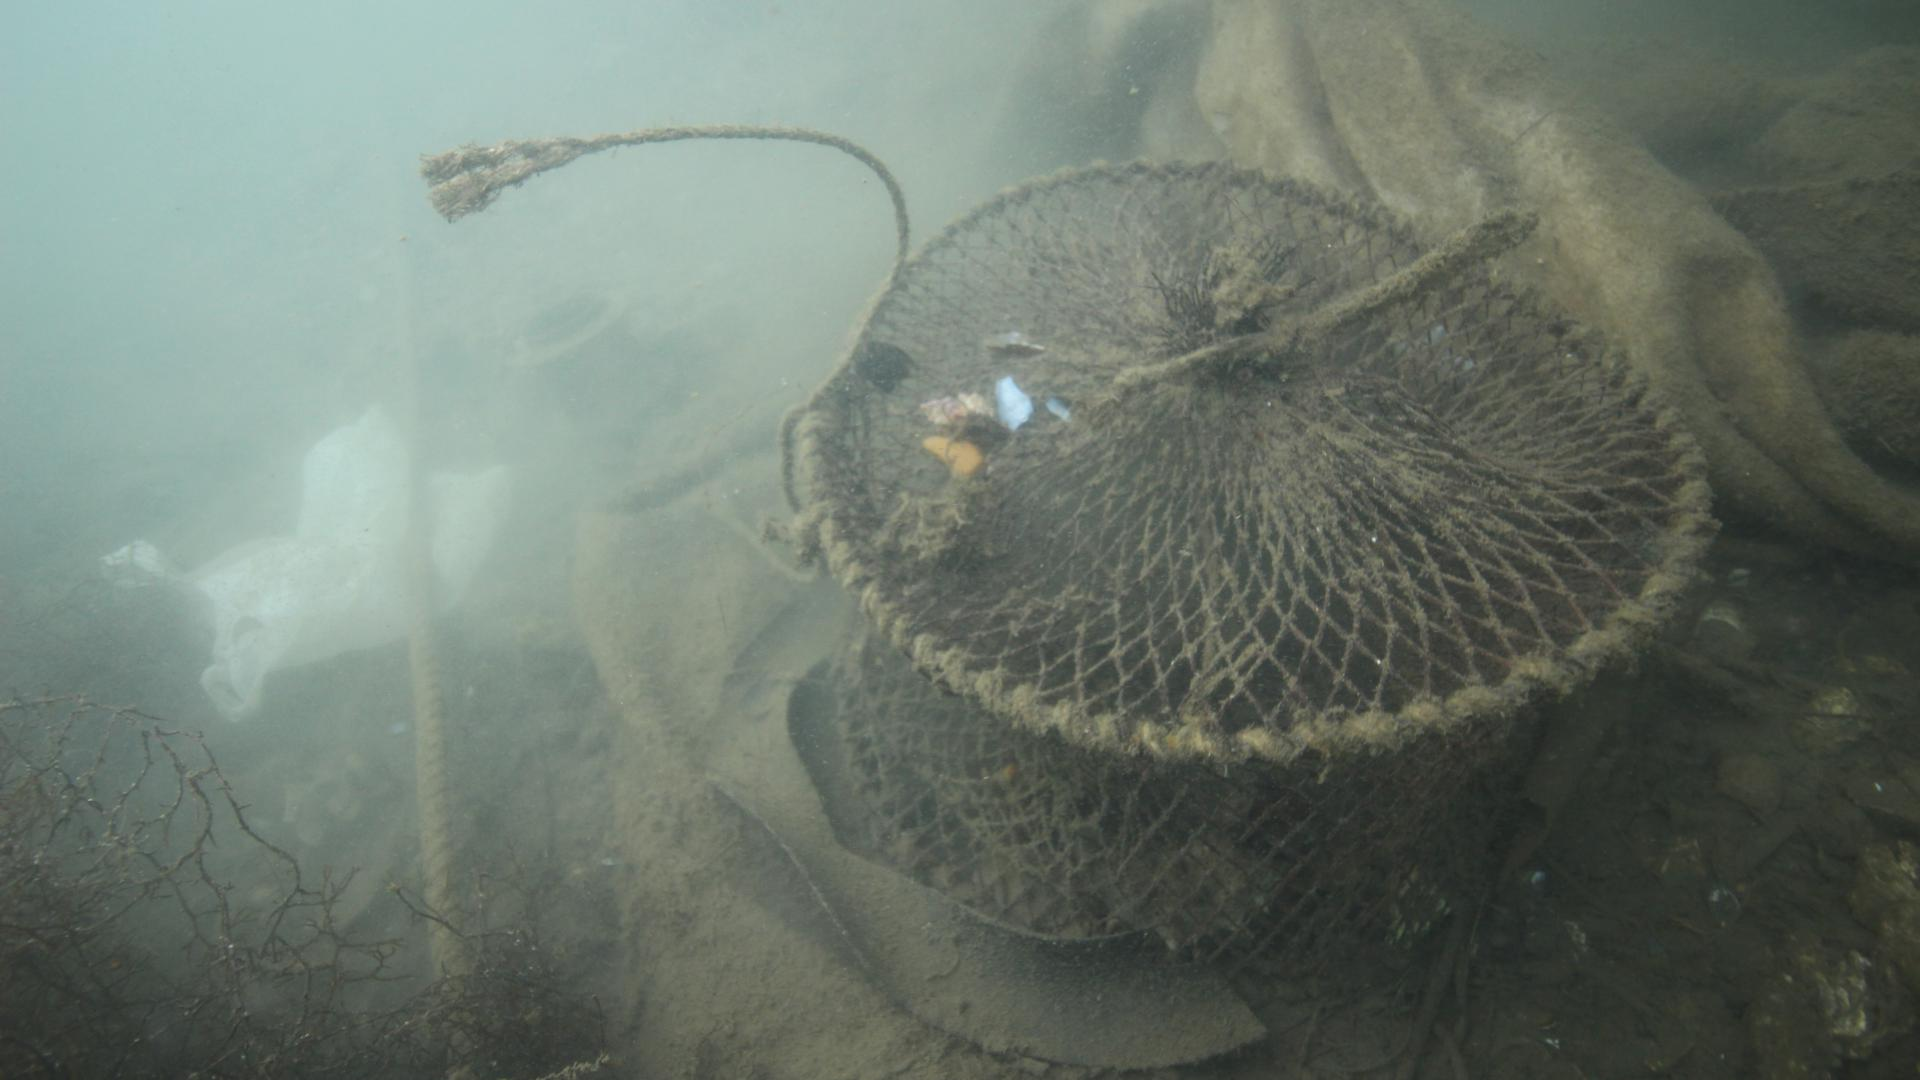circular fish trap: (796, 156, 1716, 971)
rope: (618, 120, 915, 516), (398, 585, 487, 1080)
